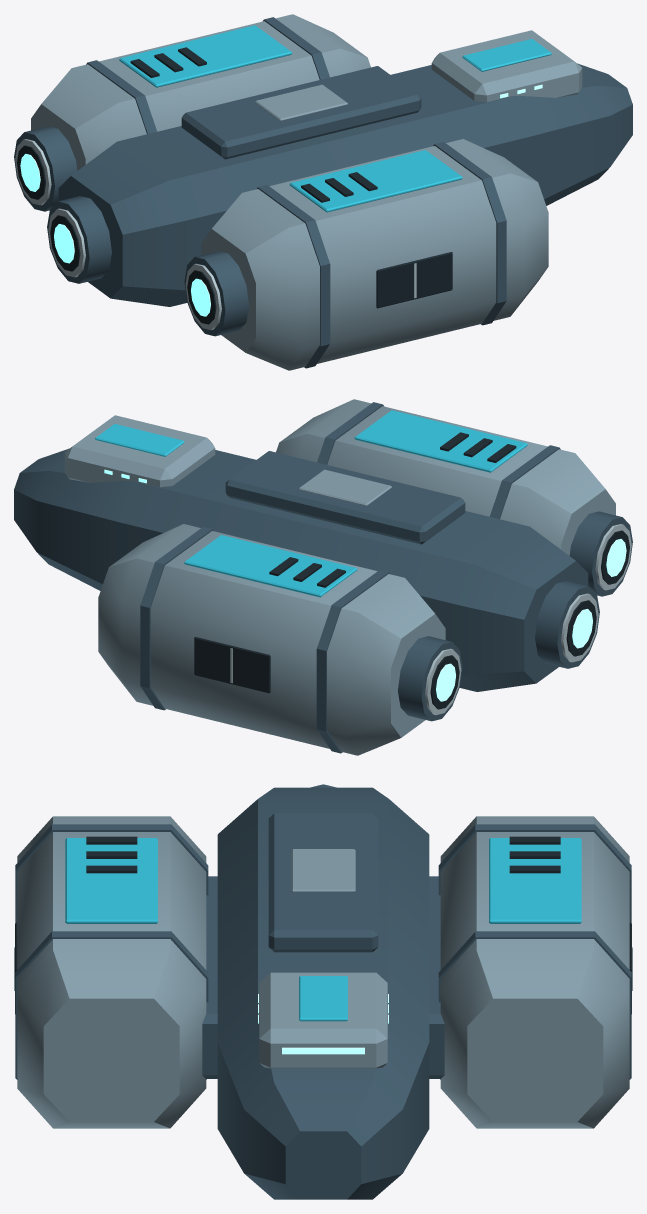
Rendered from transport.glb.
3 views of the same model, one above another, from view 1: azimuth 30°, elevation 25°; view 2: azimuth 150°, elevation 25°; view 3: azimuth 270°, elevation 25° (orthographic). The views are drawn at different scales.
Visible parts, largest first — view 1: Troop pod / body, Transport / central hull, Drive / shroud, Transport / command accent, Transport / command housing, Drive / recess, Drive / rim, Bridge / window; view 2: Troop pod / body, Transport / central hull, Drive / shroud, Transport / command accent, Transport / command housing, Drive / recess, Drive / rim, Bridge / window; view 3: Troop pod / body, Transport / central hull, Drive / shroud, Transport / command accent, Transport / command housing, Drive / recess, Bridge / window.
Boxes of the visible parts, <box> form: Troop pod / body: <box>31,14,548,370</box>; Transport / central hull: <box>58,17,632,368</box>; Drive / shroud: <box>14,66,421,336</box>; Transport / command accent: <box>119,25,551,212</box>; Transport / command housing: <box>255,30,582,120</box>; Drive / recess: <box>17,47,452,324</box>; Drive / rim: <box>15,139,416,329</box>; Bridge / window: <box>20,84,542,316</box>; Troop pod / body: <box>98,399,615,755</box>; Transport / central hull: <box>14,402,588,753</box>; Drive / shroud: <box>225,451,632,721</box>; Transport / command accent: <box>95,410,527,597</box>; Transport / command housing: <box>64,415,391,505</box>; Drive / recess: <box>194,432,629,709</box>; Drive / rim: <box>230,524,631,714</box>; Bridge / window: <box>104,469,626,701</box>; Troop pod / body: <box>17,816,629,1128</box>; Transport / central hull: <box>15,787,631,1199</box>; Drive / shroud: <box>202,784,444,1078</box>; Transport / command accent: <box>65,838,581,1021</box>; Transport / command housing: <box>259,849,387,1068</box>; Drive / recess: <box>15,836,631,1013</box>; Bridge / window: <box>258,994,388,1054</box>.
Size of the model in its own units: 21.01 by 5.85 by 16.37.
